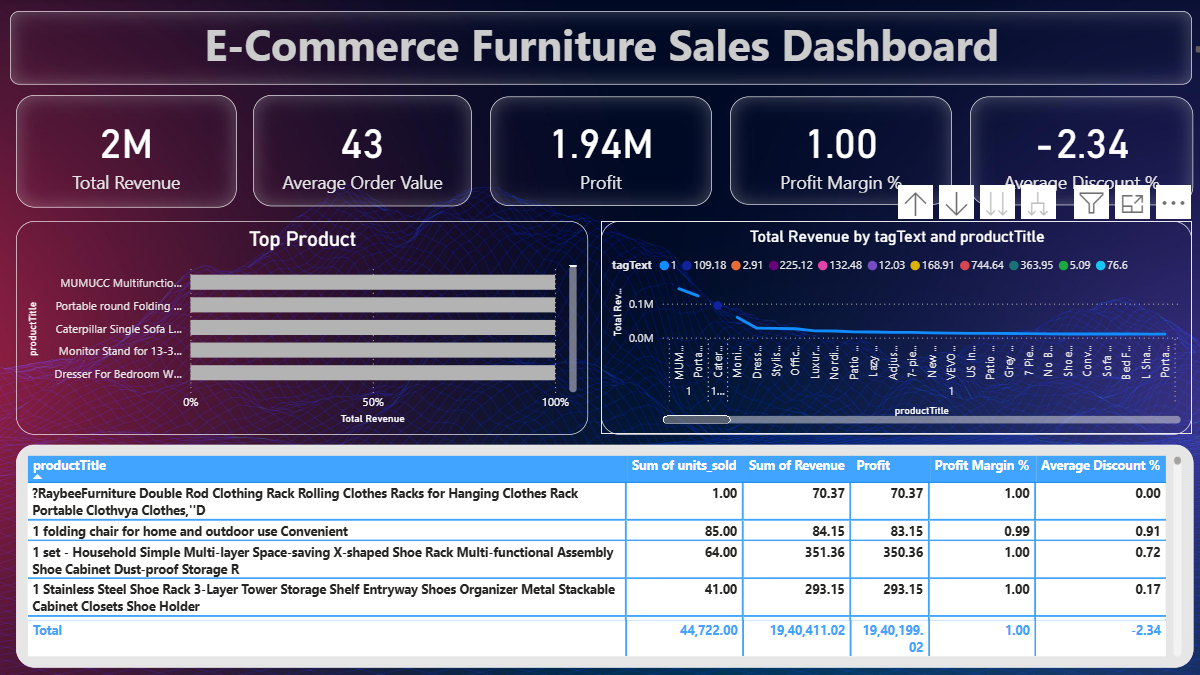

What the dashboard file says about the page in this screenshot:
{"tool":"powerbi","page":{"name":"E-Commerce Furniture","canvas":[1280,720],"ordinal":0},"visuals":[{"type":"textbox","title":"E-Commerce Furniture Sales Dashboard","box":[12.7,12.7,1253.4,77.9],"z":0},{"type":"card","fields":{"Values":["ecommerce_furniture_dataset_2024.Total Revenue"]},"box":[19.1,101.8,233.8,119.3],"z":1000},{"type":"card","fields":{"Values":["ecommerce_furniture_dataset_2024.Average Order Value"]},"box":[270.4,101.8,232.2,117.7],"z":2000},{"type":"card","fields":{"Values":["ecommerce_furniture_dataset_2024.Profit Margin %"]},"box":[776.2,103.4,235.4,114.5],"z":3000},{"type":"card","fields":{"Values":["ecommerce_furniture_dataset_2024.Profit"]},"box":[521.7,103.4,235.4,116.1],"z":4000},{"type":"card","fields":{"Values":["ecommerce_furniture_dataset_2024.Average Discount %"]},"box":[1030,103.3,236.7,115],"z":5000},{"type":"hundredPercentStackedBarChart","title":"Top Product","fields":{"Category":["ecommerce_furniture_dataset_2024.productTitle"],"Y":["ecommerce_furniture_dataset_2024.Total Revenue"]},"box":[18.3,235,606.7,226.7],"z":6000},{"type":"lineChart","title":"Total Revenue by tagText and productTitle ","fields":{"Category":["ecommerce_furniture_dataset_2024.tagText","ecommerce_furniture_dataset_2024.productTitle"],"Y":["ecommerce_furniture_dataset_2024.Total Revenue"],"Series":["ecommerce_furniture_dataset_2024.tagText"]},"box":[640,235,626.7,226.7],"z":7000},{"type":"tableEx","fields":{"Values":["ecommerce_furniture_dataset_2024.productTitle","Sum(ecommerce_furniture_dataset_2024.units_sold)","Sum(ecommerce_furniture_dataset_2024.Revenue)","ecommerce_furniture_dataset_2024.Profit","ecommerce_furniture_dataset_2024.Profit Margin %","ecommerce_furniture_dataset_2024.Average Discount %"]},"box":[18.3,471.7,1248.3,236.7],"z":8000},{"type":"actionButton","box":[1266.1,33.4,14.3,39.8],"z":9000}]}

Visuals, with their boxes in screenshot pixels (x1, y1, x2, y2), scaled from the page's 1280x720 canvas onto the 1200x675 screenshot:
"E-Commerce Furniture Sales Dashboard" textbox: [12,12,1187,85]
card - ecommerce_furniture_dataset_2024.Total Revenue: [18,95,237,207]
card - ecommerce_furniture_dataset_2024.Average Order Value: [253,95,471,206]
card - ecommerce_furniture_dataset_2024.Profit Margin %: [728,97,948,204]
card - ecommerce_furniture_dataset_2024.Profit: [489,97,710,206]
card - ecommerce_furniture_dataset_2024.Average Discount %: [966,97,1188,205]
"Top Product" hundredPercentStackedBarChart: [17,220,586,433]
"Total Revenue by tagText and productTitle " lineChart: [600,220,1188,433]
tableEx - ecommerce_furniture_dataset_2024.productTitle x Sum(ecommerce_furniture_dataset_2024.units_sold): [17,442,1187,664]
actionButton: [1187,31,1199,69]
